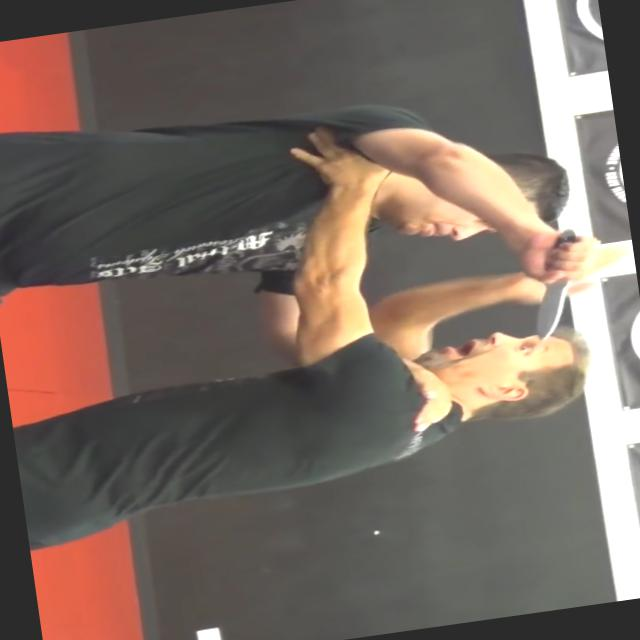knife: (516, 220, 614, 345)
